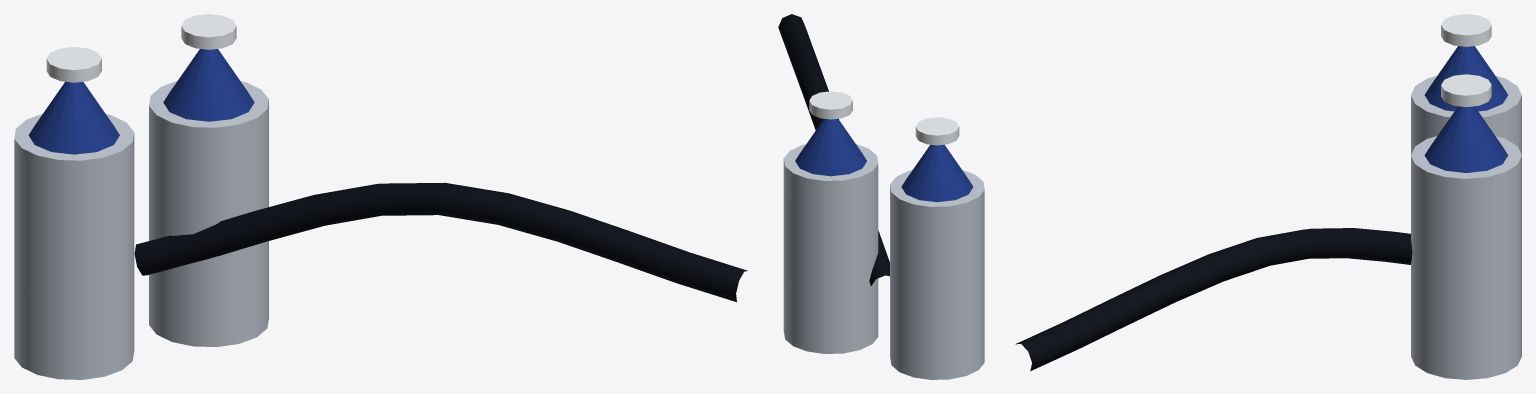
The model's file is oil_catch_tanks.glb.
3 renders of one model, left to right at view 1: azimuth 30°, elevation 25°; view 2: azimuth 150°, elevation 25°; view 3: azimuth 270°, elevation 25°, orthographic. The views are drawn at different scales.
Parts seen in each view (by area): view 1: Catch_Tank_Breathers_Assembly; view 2: Catch_Tank_Breathers_Assembly; view 3: Catch_Tank_Breathers_Assembly.
Part boxes in pixels (x1,y1,x2,y2): Catch_Tank_Breathers_Assembly: [14, 14, 747, 379]; Catch_Tank_Breathers_Assembly: [778, 14, 984, 379]; Catch_Tank_Breathers_Assembly: [1015, 14, 1521, 379].
Size of the model in its own units: 0.328 by 0.189 by 0.321.
